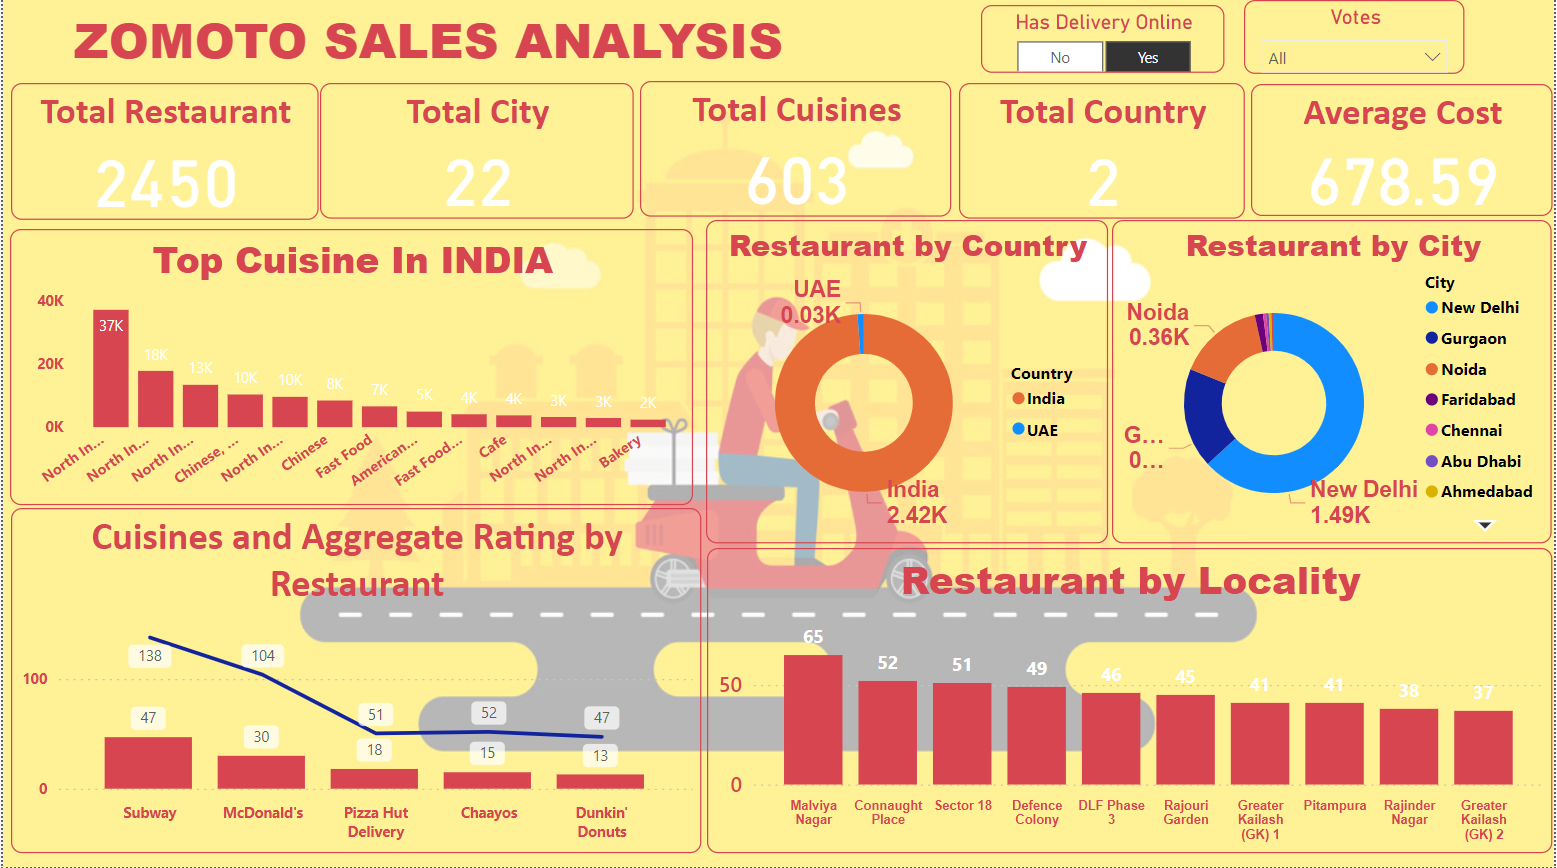

The dashboard page shown, as its layout file describes it:
{"tool":"powerbi","page":{"name":"Page 2","canvas":[1280,720],"ordinal":1},"visuals":[{"type":"card","title":"Total Cuisines","fields":{"Values":["Count(Clean Zamoto Data.Cuisines)"]},"box":[525.8,71.2,257.3,111.6],"z":0},{"type":"card","title":"Total City","fields":{"Values":["Count(Clean Zamoto Data.City)"]},"box":[262.1,72.8,258.9,111.6],"z":1000},{"type":"card","title":"Average Cost","fields":{"Values":["Avg(Clean Zamoto Data.Average Cost for two)"]},"box":[1030.4,73.2,248.8,109.4],"z":2000},{"type":"card","title":"Total Country","fields":{"Values":["Count(Clean Zamoto Data.Country)"]},"box":[789.6,72.8,236.2,111.6],"z":3000},{"type":"card","title":"Total Restaurant","fields":{"Values":["CountNonNull(Clean Zamoto Data.Restaurant Name)"]},"box":[6.5,72.8,254,113.3],"z":4000},{"type":"clusteredColumnChart","title":"Restaurant by Locality","fields":{"Category":["Clean Zamoto Data.Locality"],"Y":["CountNonNull(Clean Zamoto Data.Restaurant Name)"]},"box":[581.3,457,697.8,252.3],"z":5000},{"type":"donutChart","title":"Restaurant by Country","fields":{"Category":["Clean Zamoto Data.Country"],"Y":["CountNonNull(Clean Zamoto Data.Restaurant Name)"]},"box":[580.9,186.1,331.7,267],"z":6000},{"type":"donutChart","title":"Restaurant by City","fields":{"Category":["Clean Zamoto Data.City"],"Y":["CountNonNull(Clean Zamoto Data.Restaurant Name)"]},"box":[915.7,186.1,363.4,267.3],"z":7000},{"type":"textbox","title":"ZOMOTO SALES ANALYSIS","box":[16.8,7.9,669.6,55.6],"z":8000},{"type":"slicer","title":"Has Delivery Online","fields":{"Values":["Clean Zamoto Data.Has Online delivery"]},"box":[807.2,7.9,201.1,55.6],"z":9000},{"type":"columnChart","title":"Top Cuisine In INDIA","fields":{"Category":["Clean Zamoto Data.Cuisines"],"Y":["Sum(Clean Zamoto Data.Votes)"]},"box":[6.2,193.2,563.7,227.6],"z":11000},{"type":"lineStackedColumnComboChart","title":"Cuisines and Aggregate Rating by Restaurant","fields":{"Category":["Clean Zamoto Data.Restaurant Name"],"Y":["CountNonNull(Clean Zamoto Data.Cuisines)"],"Y2":["Sum(Clean Zamoto Data.Aggregate rating)"]},"box":[6.5,423.9,569.5,284.8],"z":12000},{"type":"slicer","title":"Votes","fields":{"Values":["Clean Zamoto Data.Votes"]},"box":[1025,4,182.4,61.5],"z":12001}]}

Visuals, with their boxes in screenshot pixels (x1, y1, x2, y2), scaled from the page's 1280x720 canvas onto the 1557x868 screenshot:
"Total Cuisines" card: [640, 86, 953, 220]
"Total City" card: [319, 88, 634, 222]
"Average Cost" card: [1253, 88, 1556, 220]
"Total Country" card: [960, 88, 1248, 222]
"Total Restaurant" card: [8, 88, 317, 224]
"Restaurant by Locality" clusteredColumnChart: [707, 551, 1556, 855]
"Restaurant by Country" donutChart: [707, 224, 1110, 546]
"Restaurant by City" donutChart: [1114, 224, 1556, 547]
"ZOMOTO SALES ANALYSIS" textbox: [20, 10, 835, 77]
"Has Delivery Online" slicer: [982, 10, 1227, 77]
"Top Cuisine In INDIA" columnChart: [8, 233, 693, 507]
"Cuisines and Aggregate Rating by Restaurant" lineStackedColumnComboChart: [8, 511, 701, 854]
"Votes" slicer: [1247, 5, 1469, 79]
